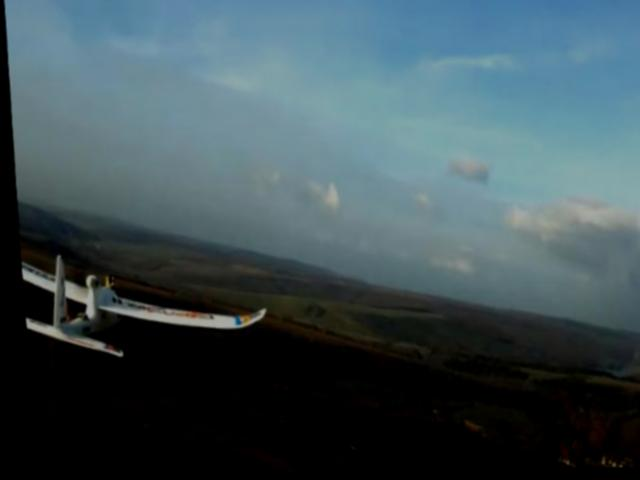iha: (14, 213, 273, 360)
